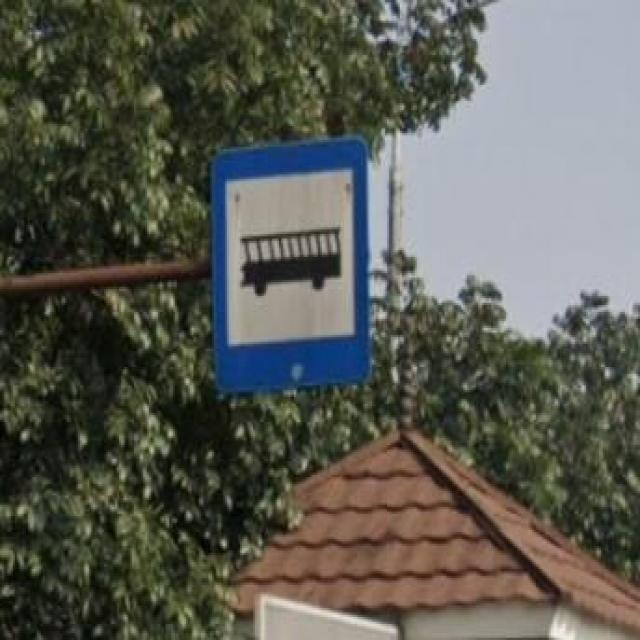traffic sign: (210, 138, 372, 390)
